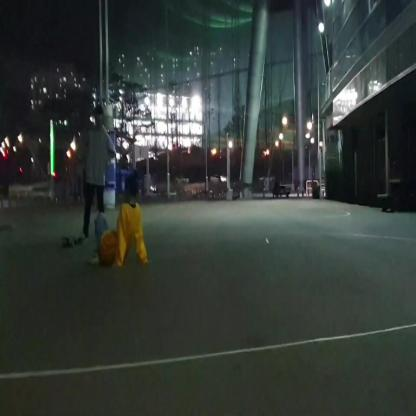Fall_Down: (89, 178, 149, 270)
